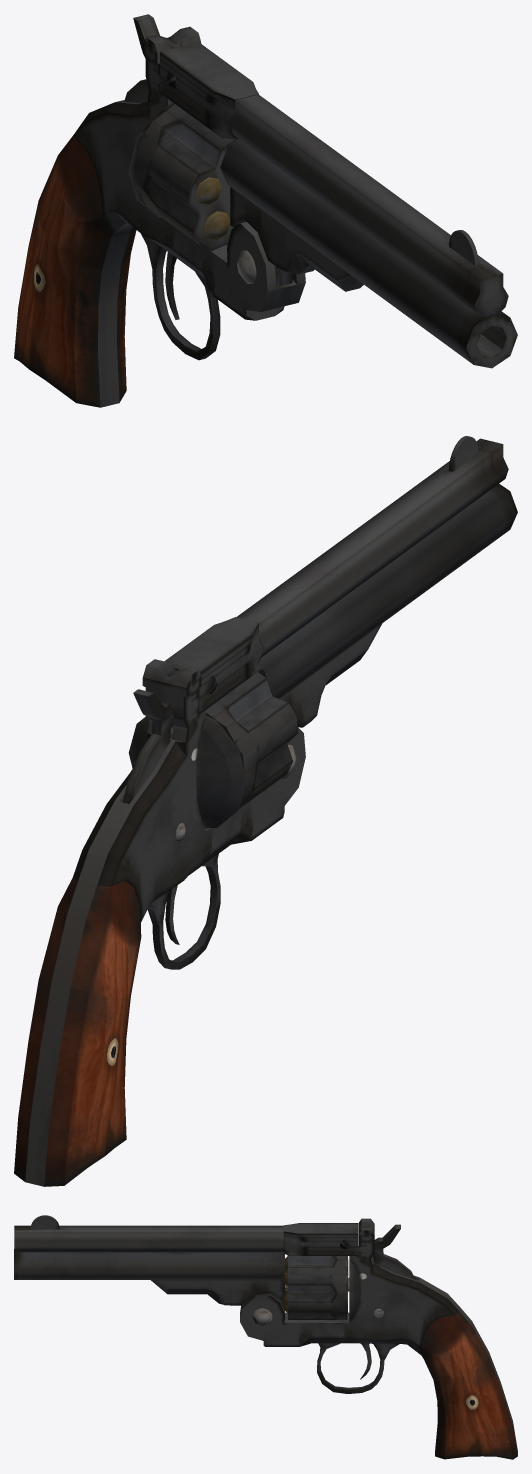
File: schofield-pistol-low.obj
The picture shows the model from 3 angles, top to bottom: view 1: azimuth 30°, elevation 25°; view 2: azimuth 150°, elevation 25°; view 3: azimuth 270°, elevation 25°; orthographic projection. The views are drawn at different scales.
Visible parts, largest first — view 1: Object_lowpoly; view 2: Object_lowpoly; view 3: Object_lowpoly.
Part boxes in pixels (bbox=[...]): Object_lowpoly: bbox=[14, 14, 517, 407]; Object_lowpoly: bbox=[14, 436, 517, 1186]; Object_lowpoly: bbox=[14, 1215, 517, 1459].
Size of the model in its own units: 19.86 by 69.58 by 133.
